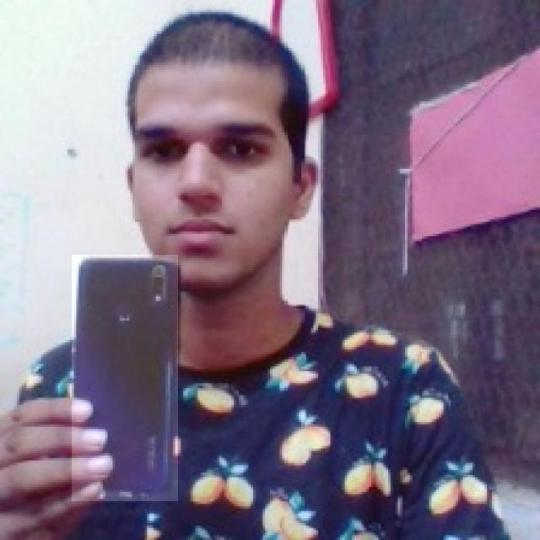phone: (74, 254, 181, 504)
